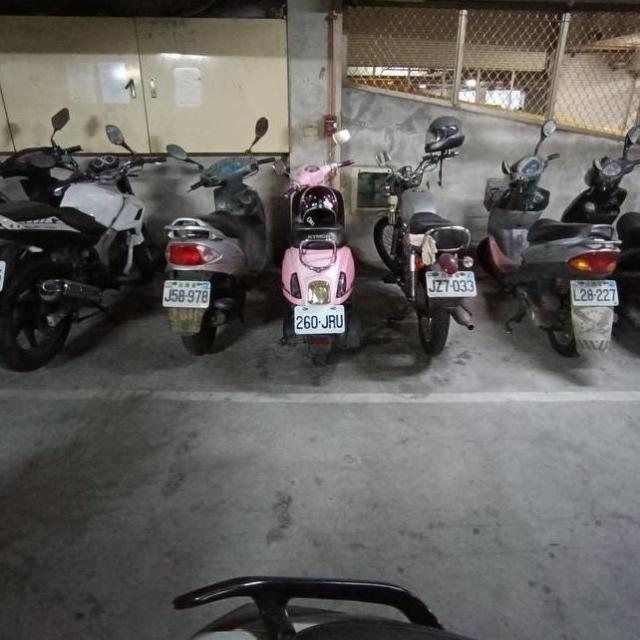W: (566, 272, 621, 310), (292, 301, 347, 337), (423, 265, 478, 300), (160, 274, 212, 311), (0, 249, 8, 296)
